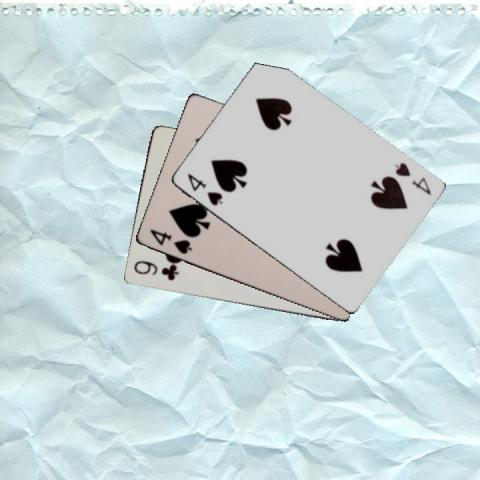4s: (390, 159, 432, 197), (184, 170, 224, 207), (147, 226, 193, 256)
9c: (130, 258, 180, 283)
